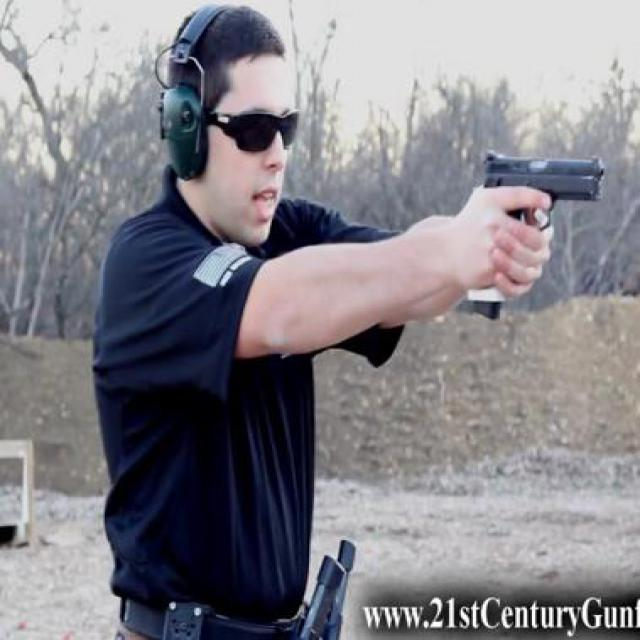gun: (460, 146, 604, 318)
